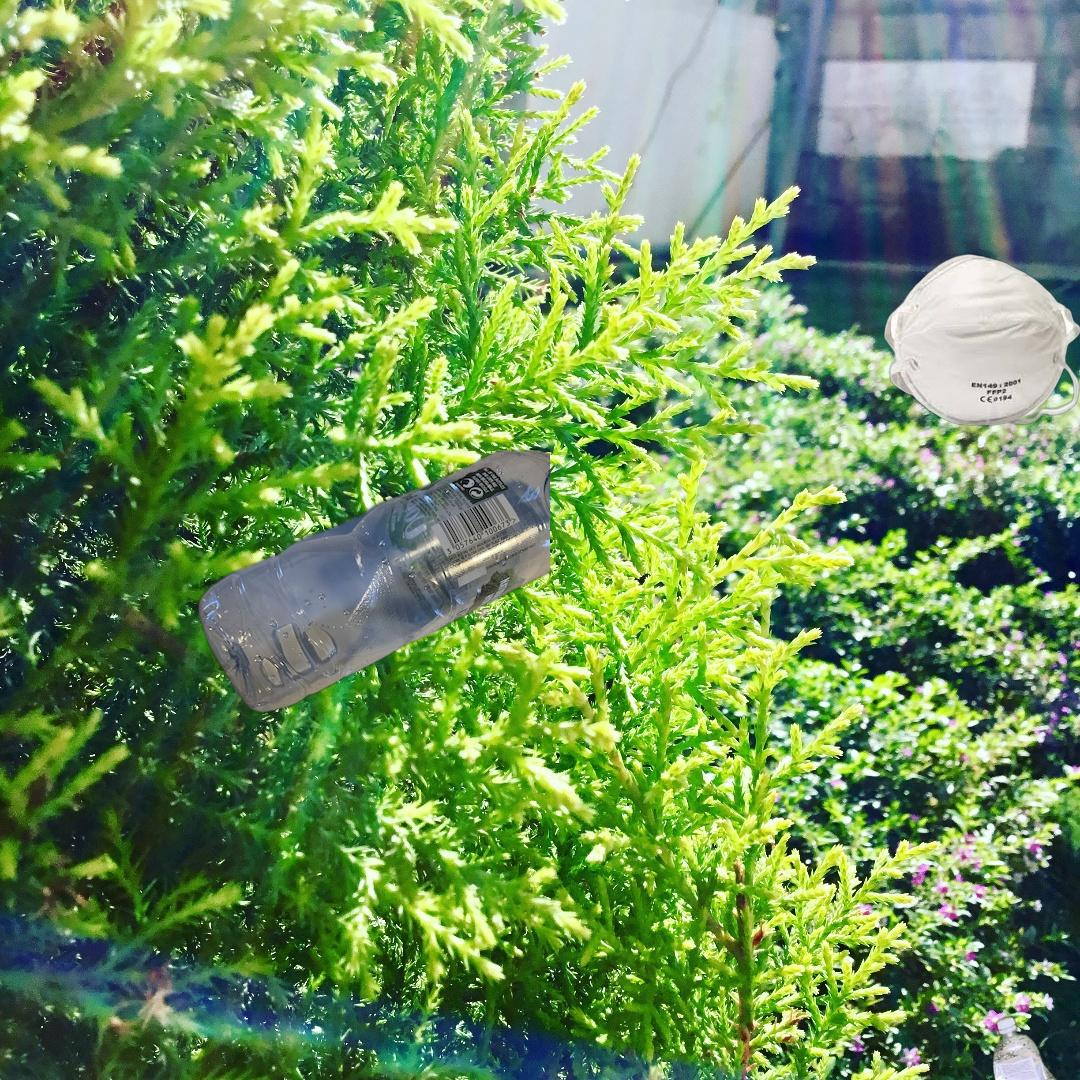plastic-bottles: (195, 445, 550, 717), (988, 1011, 1068, 1080)
trash: (881, 251, 1080, 428)
